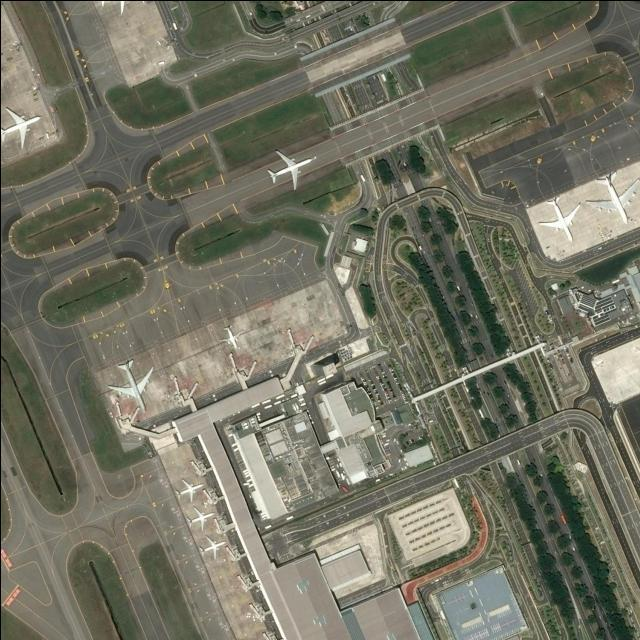Aircraft: (586, 168, 640, 223), (586, 168, 640, 222), (109, 354, 155, 412), (108, 357, 154, 411), (538, 192, 582, 241), (267, 147, 315, 191), (266, 147, 316, 189), (538, 195, 580, 242), (0, 101, 40, 149), (0, 104, 42, 147), (174, 476, 204, 501), (185, 505, 215, 530), (199, 534, 227, 559), (177, 478, 203, 502), (188, 506, 214, 530), (219, 323, 243, 349), (221, 323, 243, 350), (201, 534, 225, 558), (96, 0, 138, 12)
